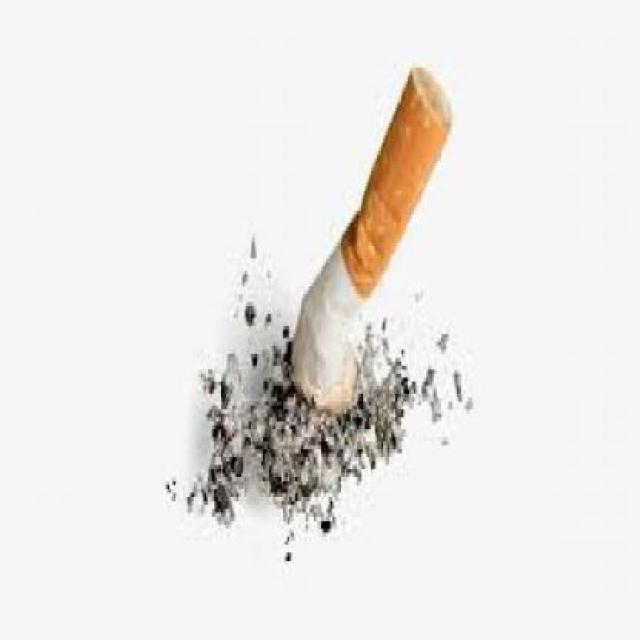cigarette: (275, 67, 463, 398)
